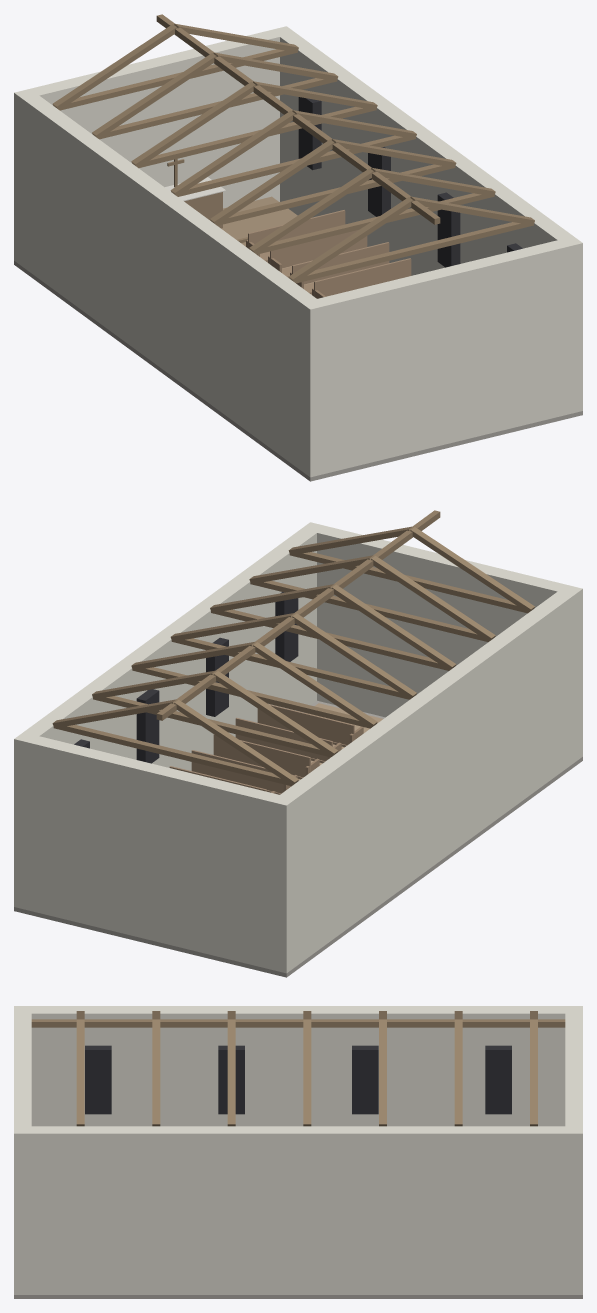
File: storm_chapel_interior_a.glb
The picture shows the model from 3 angles, top to bottom: view 1: azimuth 30°, elevation 25°; view 2: azimuth 150°, elevation 25°; view 3: azimuth 270°, elevation 25°; orthographic projection. The views are drawn at different scales.
Parts seen in each view (by area): view 1: body; view 2: body; view 3: body.
Boxes of the visible parts, bbox=[...] form: body: bbox=[14, 14, 582, 481]; body: bbox=[14, 510, 582, 977]; body: bbox=[14, 1006, 582, 1298].
Size of the model in its own units: 6.8 by 5.36 by 12.8.
